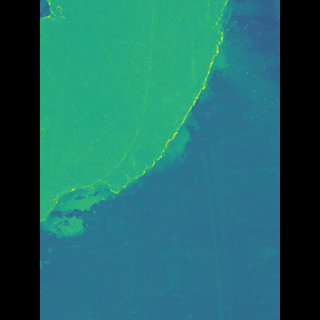Loch: (69, 0, 219, 245)
